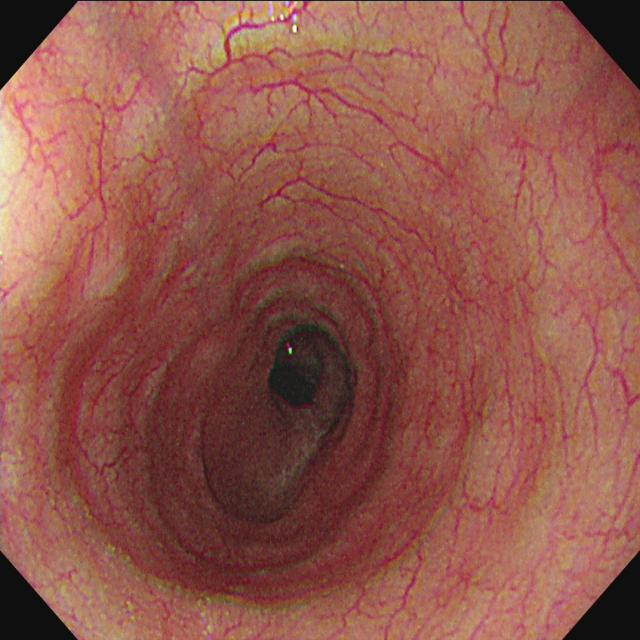E: (271, 369, 317, 407)
U: (286, 344, 293, 358)
